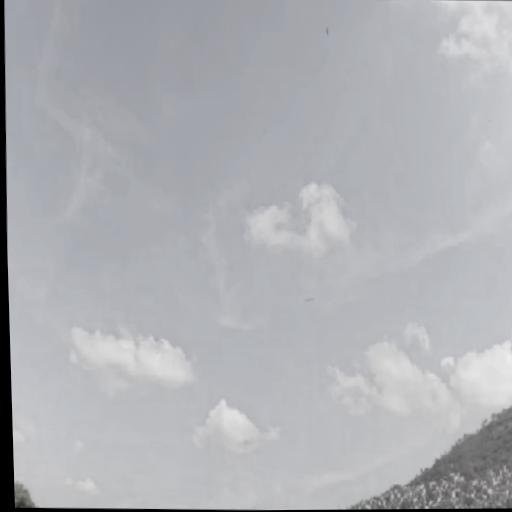drones: (302, 292, 317, 309)
